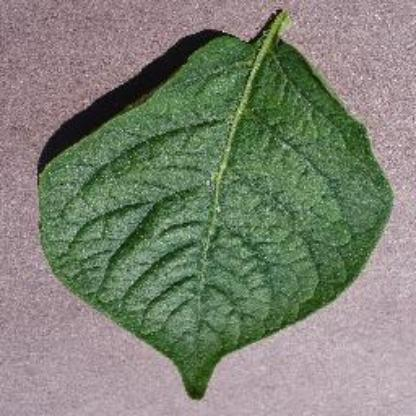Healthy-plant: (32, 9, 395, 395)
